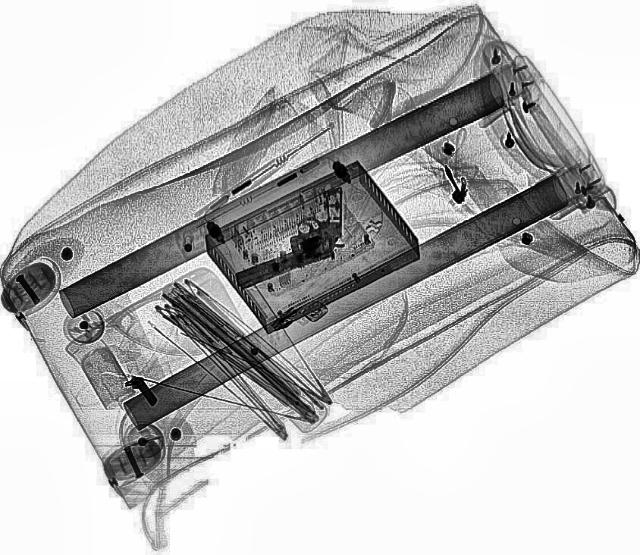Gun: (207, 184, 375, 294)
